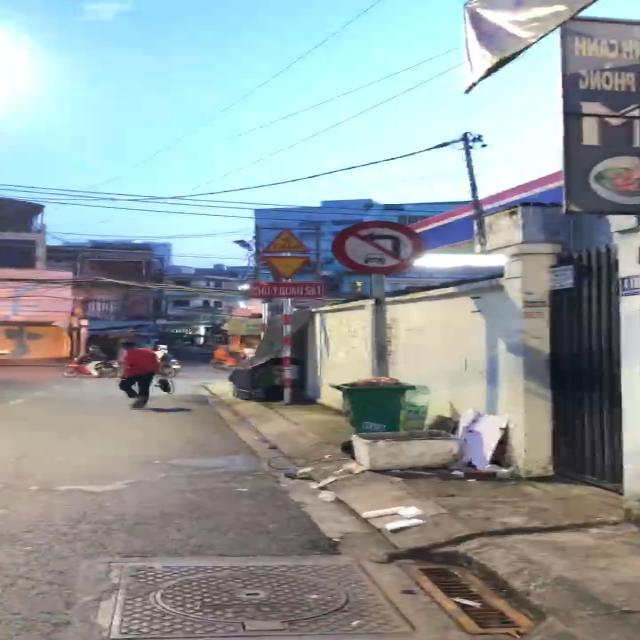Bien bao cam xe o to re trai: (333, 220, 427, 275)
Bien bao giao nhau voi duong uu tien: (260, 254, 317, 283)
